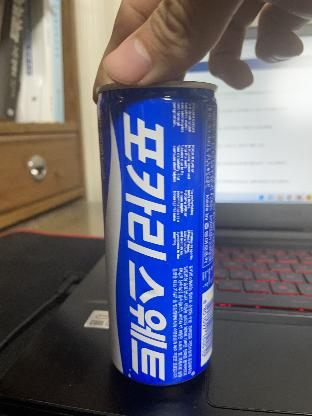Can: (97, 77, 215, 383)
